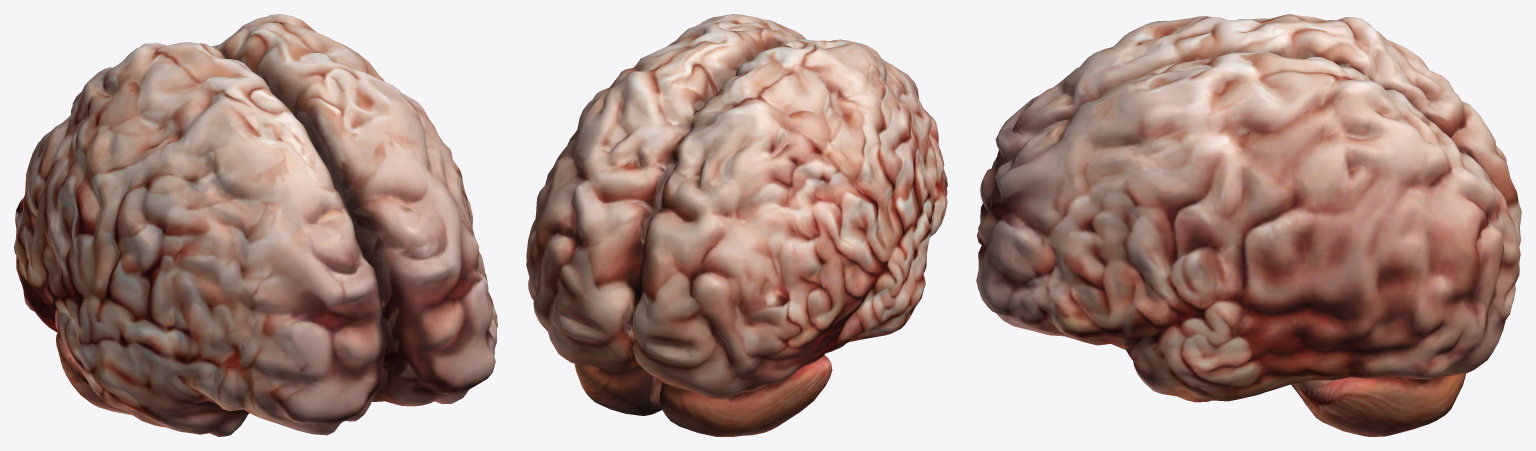
3 renders of one model, left to right at view 1: azimuth 30°, elevation 25°; view 2: azimuth 150°, elevation 25°; view 3: azimuth 270°, elevation 25°, orthographic. The views are drawn at different scales.
Size of the model in its own units: 1.48 by 1.46 by 2.
Materials: 1 (1 with a texture image).
